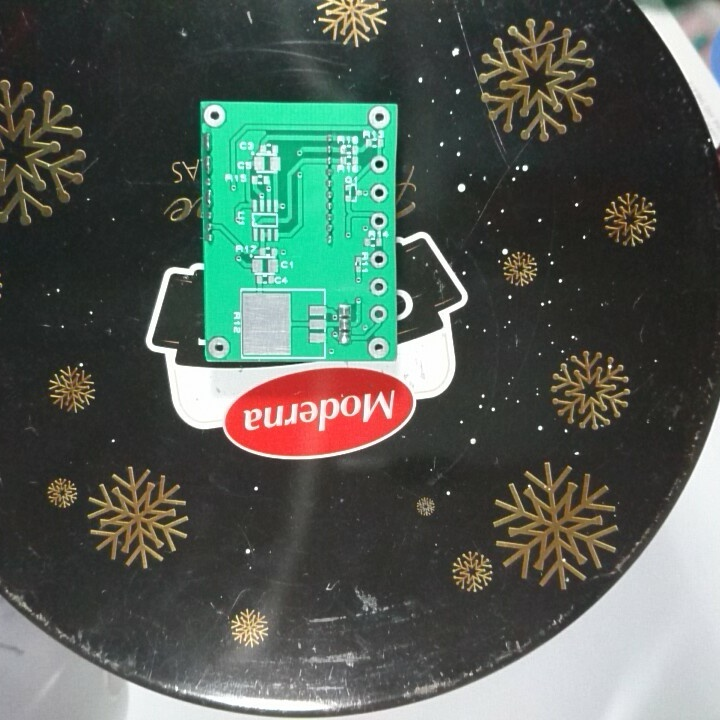F: (364, 334, 392, 361), (365, 105, 393, 131), (201, 103, 228, 129), (206, 334, 233, 360), (368, 152, 390, 176), (368, 181, 390, 204), (368, 303, 389, 326), (368, 248, 389, 270), (368, 276, 388, 298), (368, 209, 388, 230)
P: (202, 152, 215, 178), (202, 128, 215, 153), (204, 186, 217, 209)
